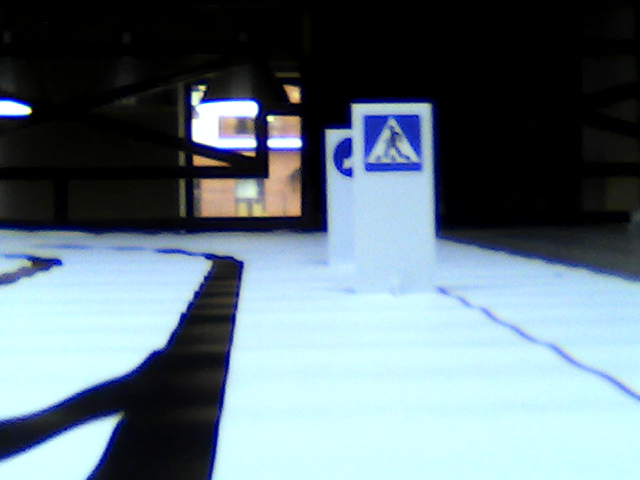pesh: (364, 114, 422, 170)
